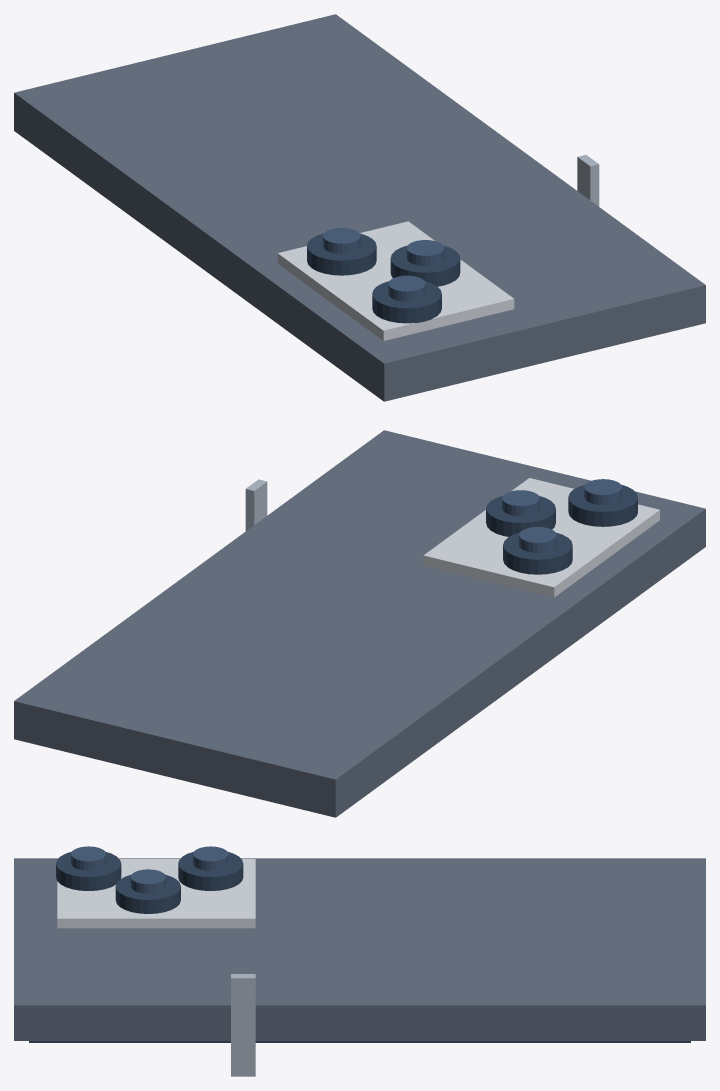
File: techzone_smartphone.glb
3 views of the same model, one above another, from view 1: azimuth 30°, elevation 25°; view 2: azimuth 150°, elevation 25°; view 3: azimuth 270°, elevation 25° (orthographic). The views are drawn at different scales.
Visible parts, largest first — view 1: phone_body_1, camera_island_12, rear_camera_13, rear_camera_17, rear_camera_15, power_button_19, lens_16, lens_14, lens_18; view 2: phone_body_1, camera_island_12, rear_camera_13, rear_camera_17, rear_camera_15, power_button_19, lens_16, lens_14, lens_18; view 3: phone_body_1, camera_island_12, power_button_19, rear_camera_15, rear_camera_17, rear_camera_13, display_bezel_2, lens_14, lens_18, lens_16.
Part boxes in pixels (box(x1,y1,x2,y2)): phone_body_1: box(14, 14, 705, 401); camera_island_12: box(277, 221, 514, 340); rear_camera_13: box(372, 281, 441, 323); rear_camera_17: box(307, 233, 376, 275); rear_camera_15: box(390, 245, 460, 286); power_button_19: box(577, 155, 599, 206); lens_16: box(406, 240, 444, 265); lens_14: box(388, 275, 425, 301); lens_18: box(323, 227, 360, 253); phone_body_1: box(14, 430, 705, 817); camera_island_12: box(423, 478, 659, 597); rear_camera_13: box(568, 485, 637, 526); rear_camera_17: box(503, 532, 572, 574); rear_camera_15: box(486, 496, 555, 536); power_button_19: box(245, 479, 267, 530); lens_16: box(502, 490, 539, 516); lens_14: box(584, 479, 621, 504); lens_18: box(519, 527, 556, 552); phone_body_1: box(14, 858, 705, 1040); camera_island_12: box(57, 859, 255, 928); power_button_19: box(231, 974, 255, 1076); rear_camera_15: box(115, 874, 180, 913); rear_camera_17: box(178, 851, 243, 890); rear_camera_13: box(56, 852, 121, 890); display_bezel_2: box(29, 1041, 690, 1042); lens_14: box(71, 846, 106, 870); lens_18: box(193, 846, 228, 870); lens_16: box(130, 869, 165, 893).
Size of the model in its own units: 1.32 by 0.4075 by 2.55.
